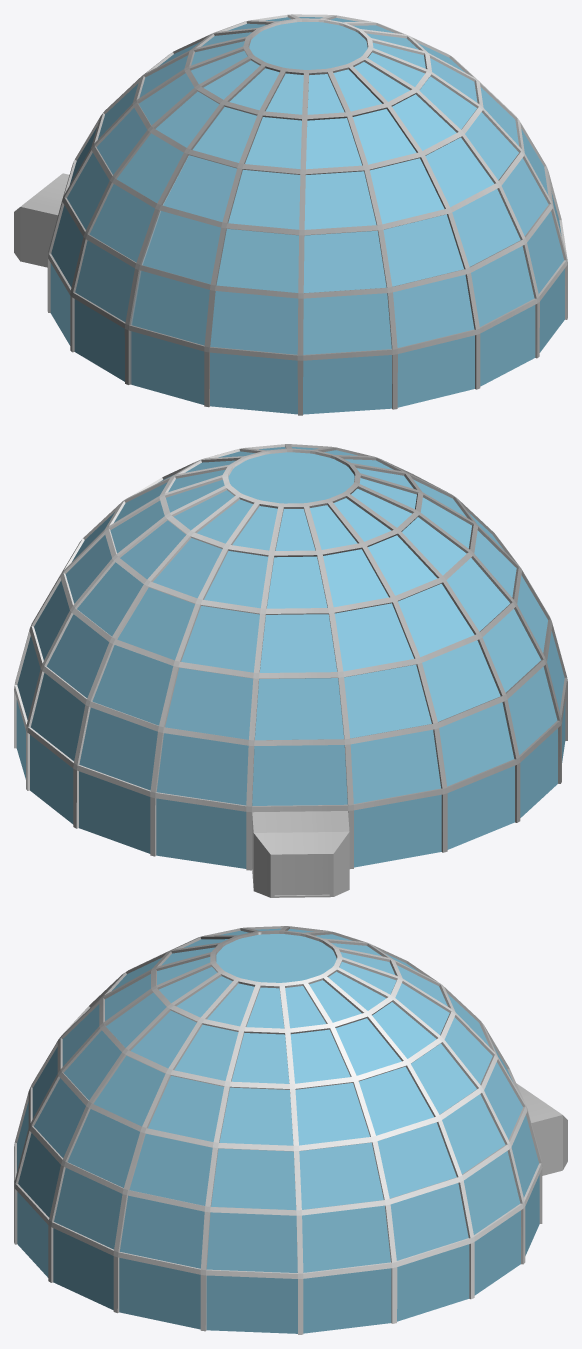
File: dome.fbx
3 renders of one model, top to bottom at view 1: azimuth 30°, elevation 25°; view 2: azimuth 150°, elevation 25°; view 3: azimuth 270°, elevation 25°, orthographic. The views are drawn at different scales.
Parts seen in each view (by area): view 1: Sphere.003; view 2: Sphere.003; view 3: Sphere.003.
Boxes of the visible parts, box(x1,y1,x2,y2) form: Sphere.003: box(14, 14, 567, 415); Sphere.003: box(14, 444, 567, 897); Sphere.003: box(14, 926, 567, 1334).
Bounding box in the file's own units: 199 × 110 × 208.
2 materials, 2 textured.
